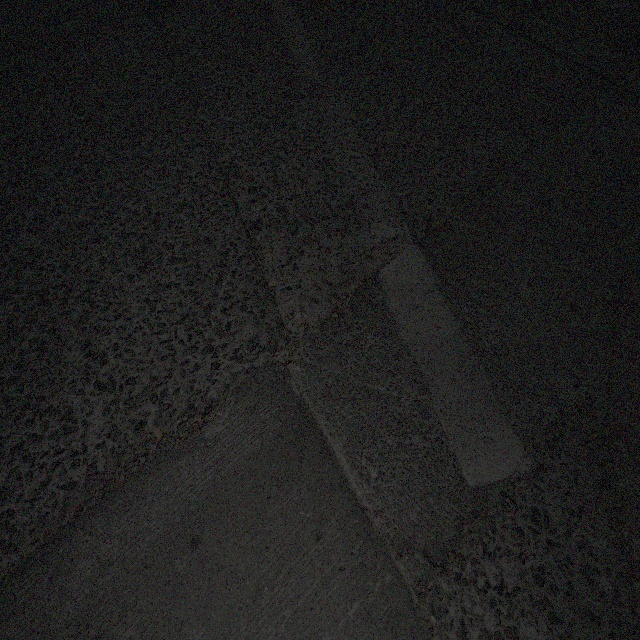pothole: (273, 329, 301, 365)
